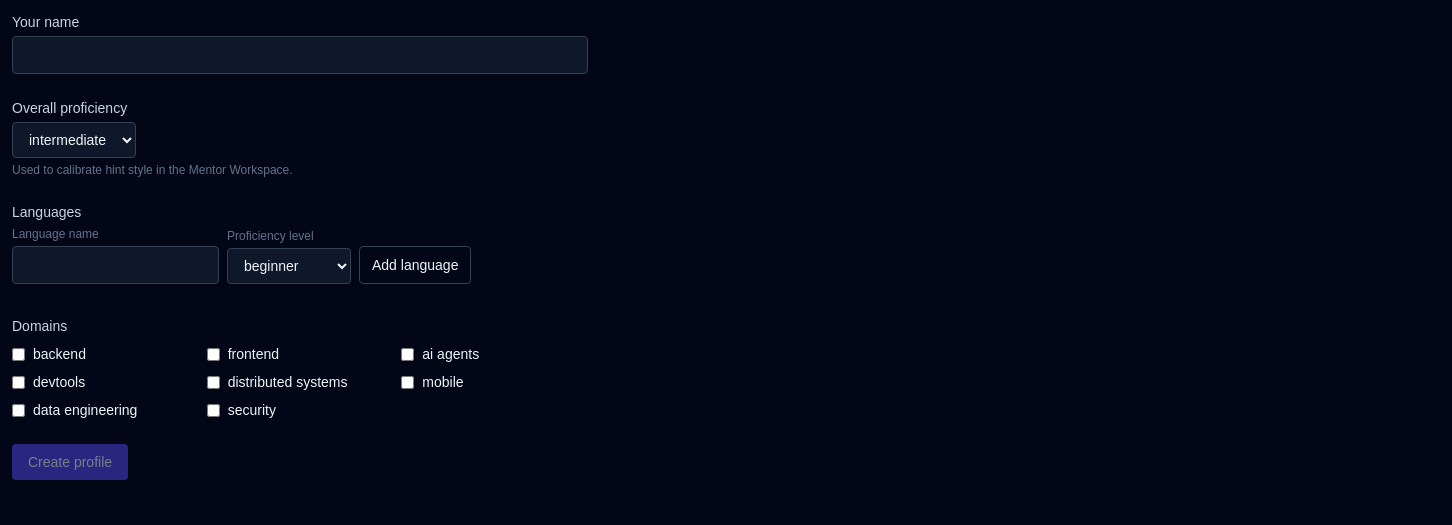
Test: ProfileForm › on success, stores the profile and shows a confirmation
The width and height of the screenshot is (1452, 525).
Type "Ada Lovelace" into the field labelled "Your name" at [300, 55], box [12,36,588,74]
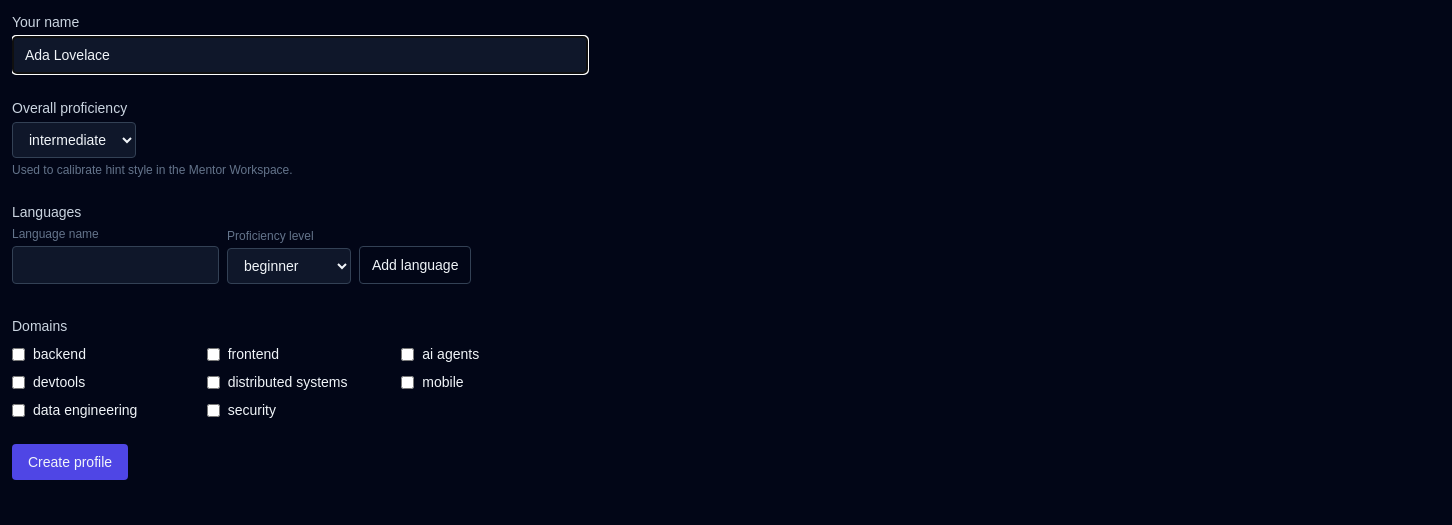
Type "Python" into the field labelled "Language name" at [116, 265], box [12,246,219,284]
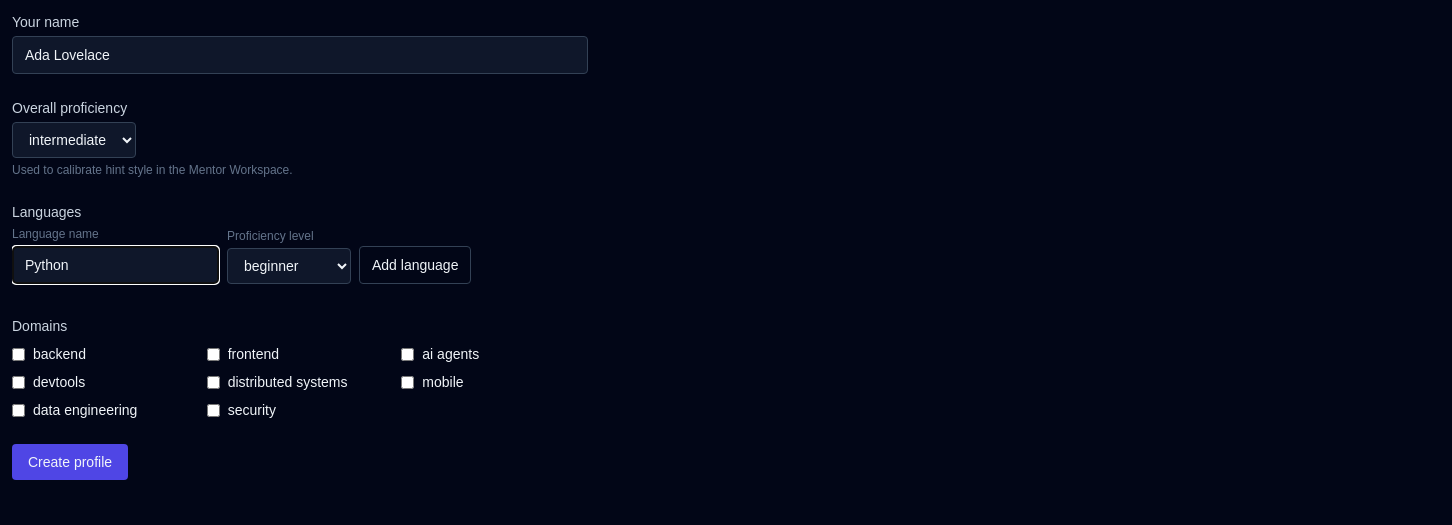
Select "advanced" in the dropdown labelled "Proficiency level" at [289, 266], box [227,248,351,284]
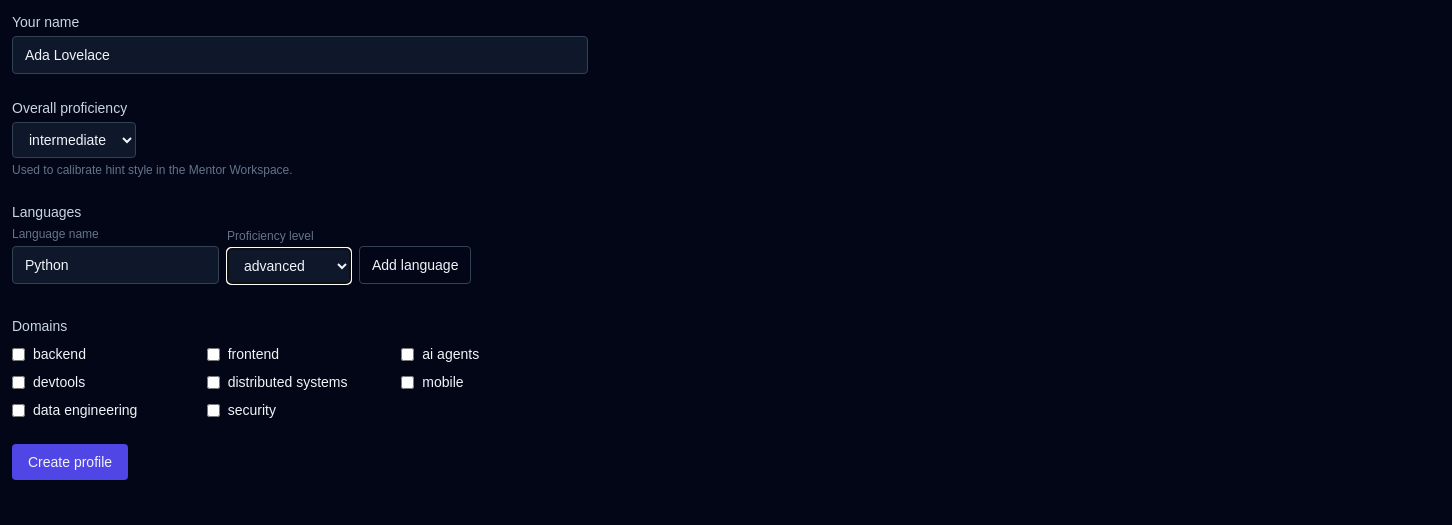
Click the button "Add language" at [415, 265], box [359,246,471,284]
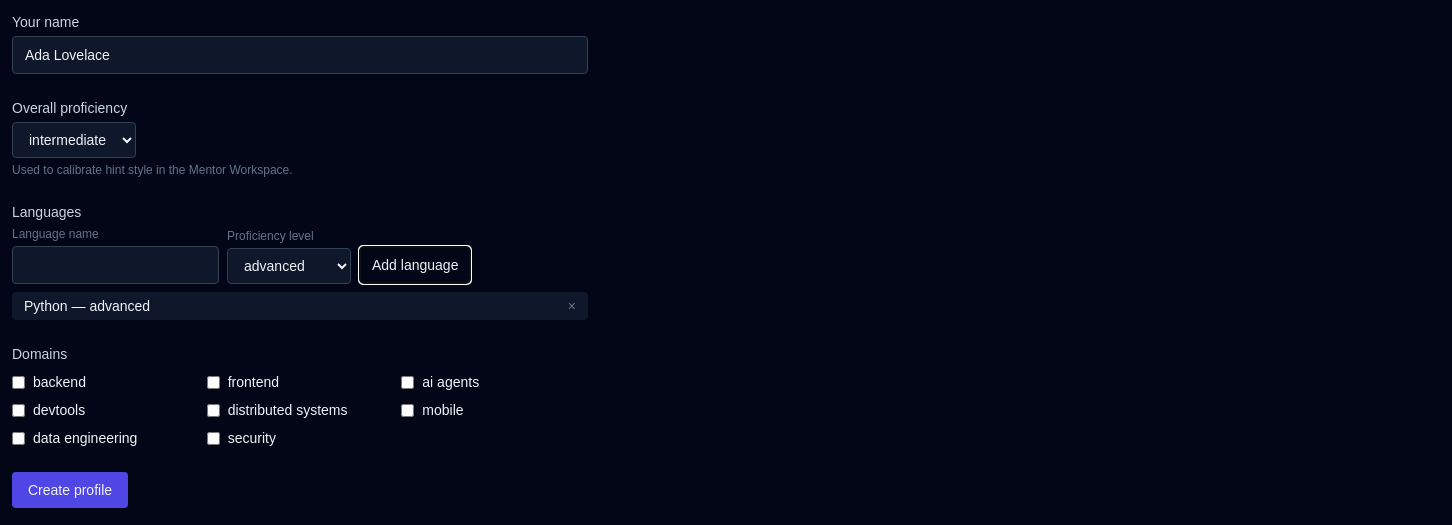
Click the checkbox labelled "backend" at [18, 382], box [12,376,25,388]
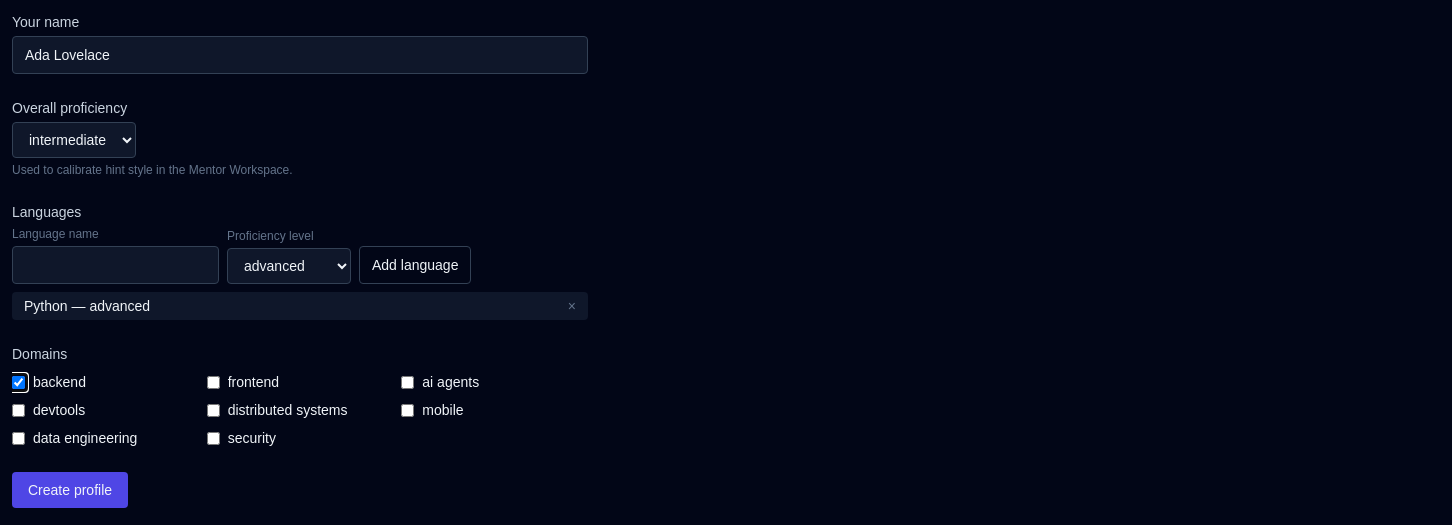
Click the button "Create profile" at [70, 490], box [12,472,128,508]
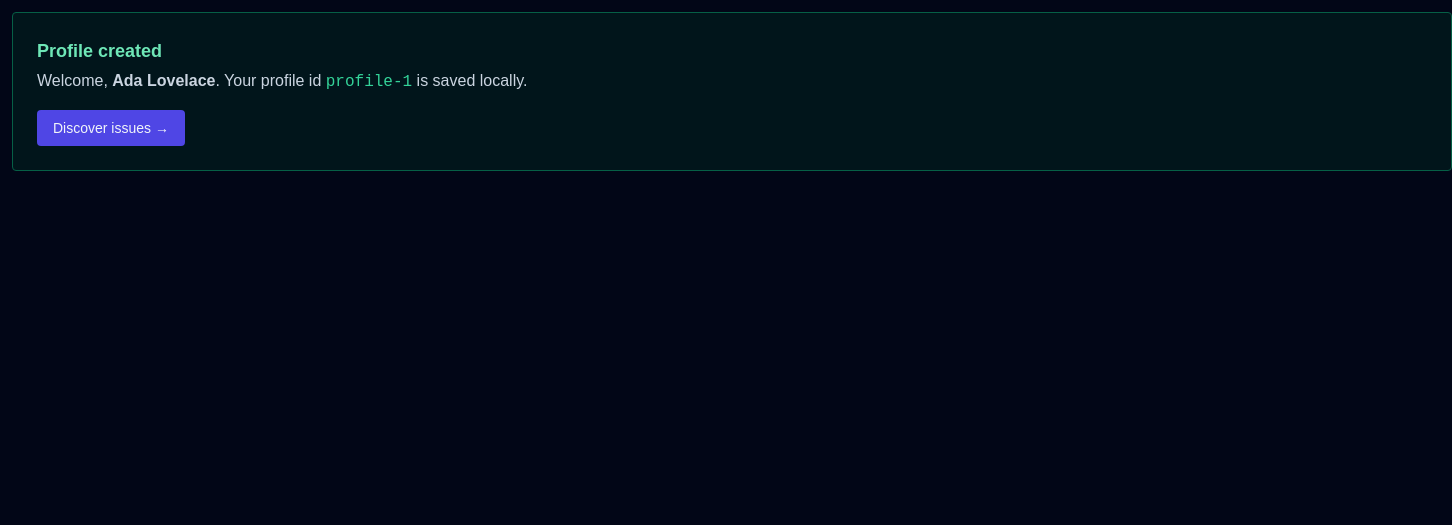
expect the text "Ada Lovelace" is shown: met, box [112,72,216,89]
expect the text "profile-1" is shown: met, box [326,73,412,91]
